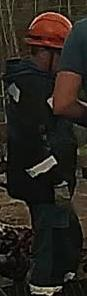gloves: (50, 177, 73, 211)
helmet: (24, 11, 73, 49)
vest: (3, 57, 77, 203)
